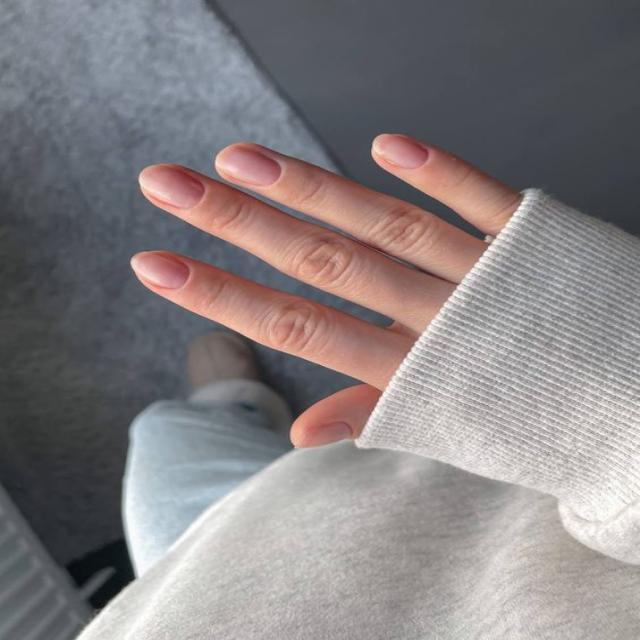Fingernail: (140, 165, 205, 209), (218, 147, 280, 187), (130, 252, 189, 290), (373, 133, 427, 172), (296, 423, 355, 451)
